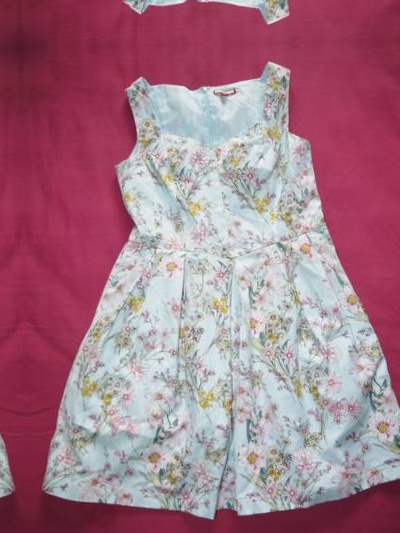Dress: (48, 45, 400, 510), (39, 0, 392, 42), (0, 52, 0, 518)
